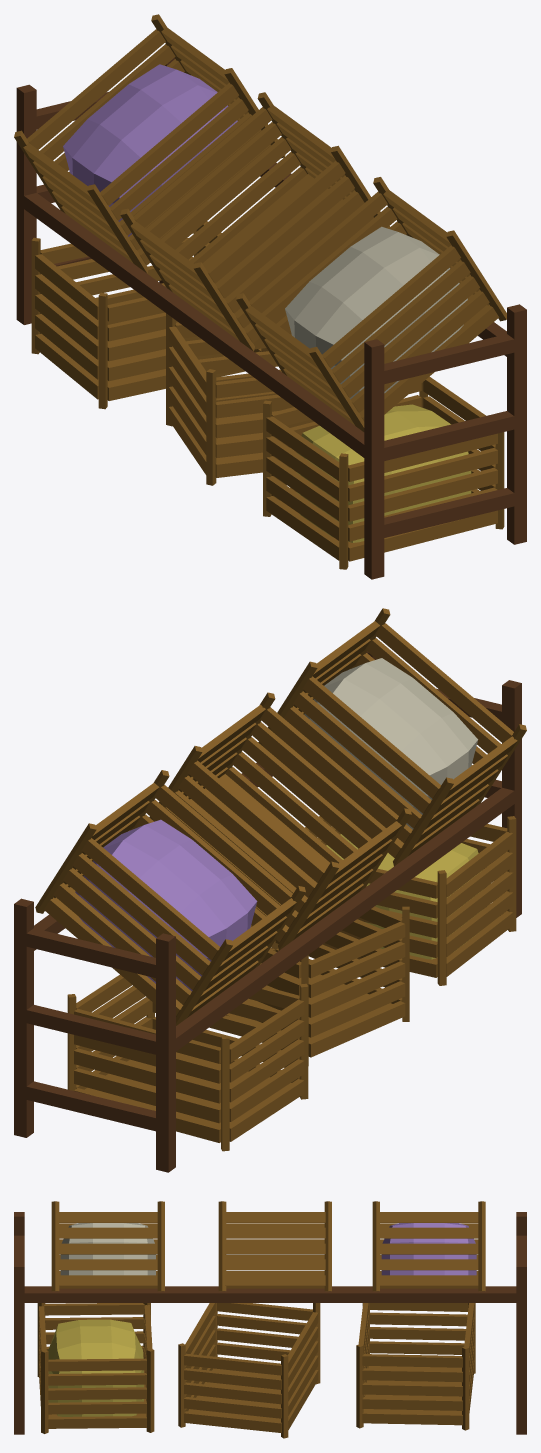
The model's file is Fruitbox_Rag.fbx.
3 renders of one model, top to bottom at view 1: azimuth 30°, elevation 25°; view 2: azimuth 150°, elevation 25°; view 3: azimuth 270°, elevation 25°, orthographic. The views are drawn at different scales.
Visible parts, largest first — view 1: Fruitbox - With.002, Fruitbox.001, Fruitbox - With, Fruitbox - With.001, Fruitbox, Fruitbox.002, Cube.005, Cube.007, Cube.002, Cube.001, Cube.003, Cube.006; view 2: Fruitbox - With, Fruitbox - With.002, Fruitbox.001, Fruitbox, Fruitbox - With.001, Fruitbox.002, Cube.005, Cube.006, Cube.003, Cube, Cube.002; view 3: Fruitbox.002, Fruitbox - With.001, Fruitbox, Fruitbox - With.002, Fruitbox.001, Fruitbox - With, Cube.004, Cube, Cube.001, Cube.005, Cube.006, Cube.007.
Boxes of the visible parts, <box> form: Fruitbox - With.002: <box>236,177,506,431</box>; Fruitbox.001: <box>120,92,389,351</box>; Fruitbox - With: <box>14,14,285,273</box>; Fruitbox - With.001: <box>263,376,504,569</box>; Fruitbox: <box>31,221,268,409</box>; Fruitbox.002: <box>166,313,313,485</box>; Cube.005: <box>24,193,364,457</box>; Cube.007: <box>384,334,514,537</box>; Cube.002: <box>364,339,384,579</box>; Cube.001: <box>507,304,526,544</box>; Cube.003: <box>16,84,36,324</box>; Cube.006: <box>36,92,108,266</box>; Fruitbox - With: <box>35,770,305,1025</box>; Fruitbox - With.002: <box>258,608,526,866</box>; Fruitbox.001: <box>149,692,411,950</box>; Fruitbox: <box>67,975,308,1151</box>; Fruitbox - With.001: <box>305,816,516,985</box>; Fruitbox.002: <box>226,906,409,1065</box>; Cube.005: <box>176,787,514,1051</box>; Cube.006: <box>26,928,155,1131</box>; Cube.003: <box>156,933,175,1172</box>; Cube: <box>14,898,33,1137</box>; Cube.002: <box>502,680,521,917</box>; Fruitbox.002: <box>178,1303,320,1438</box>; Fruitbox - With.001: <box>37,1303,154,1433</box>; Fruitbox: <box>356,1303,475,1430</box>; Fruitbox - With.002: <box>51,1201,164,1291</box>; Fruitbox.001: <box>218,1201,331,1291</box>; Fruitbox - With: <box>372,1201,485,1291</box>; Cube.004: <box>24,1288,516,1302</box>; Cube: <box>516,1262,526,1434</box>; Cube.001: <box>14,1262,24,1434</box>; Cube.005: <box>24,1286,516,1288</box>; Cube.006: <box>516,1235,526,1262</box>; Cube.007: <box>14,1235,24,1262</box>.
Bounding box in the file's own units: 63.29 × 90.85 × 194.
